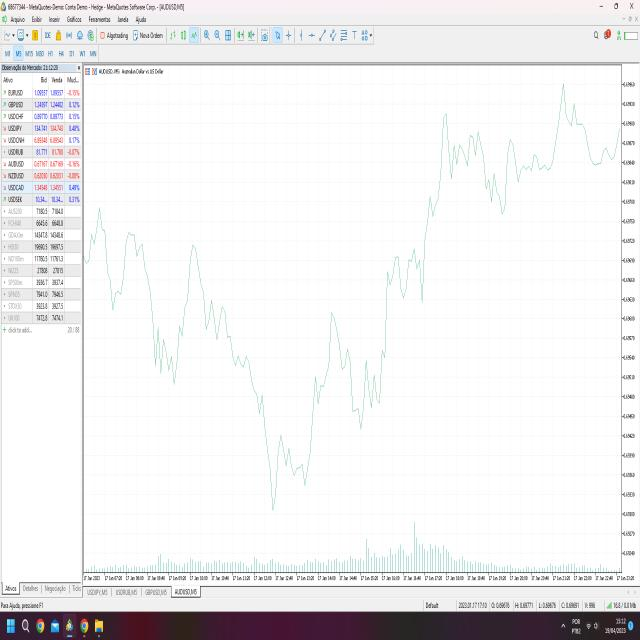bandeira_alta: (380, 238, 428, 442)
topo_duplo: (87, 197, 152, 342)
